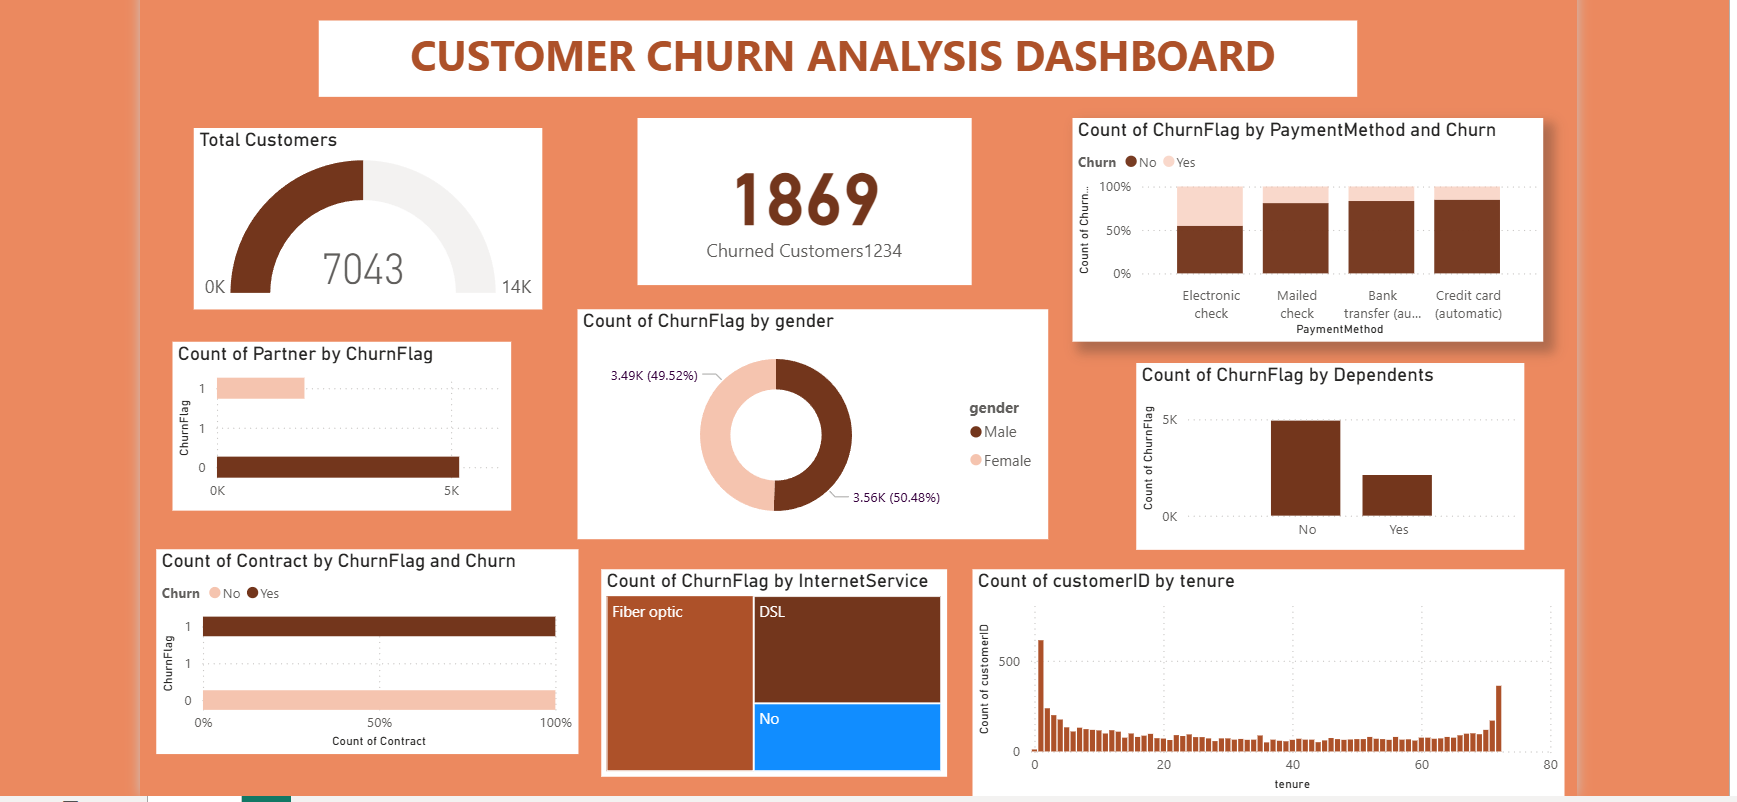

This screenshot's page, from the dashboard's own definition file:
{"tool":"powerbi","page":{"name":"Page 1","canvas":[1280,720],"ordinal":0},"visuals":[{"type":"donutChart","fields":{"Category":["Telco_Customer_Churn_Dataset  (2).gender"],"Y":["CountNonNull(Telco_Customer_Churn_Dataset  (2).ChurnFlag)"]},"box":[390.1,286,419,205.1],"z":0},{"type":"clusteredBarChart","fields":{"Category":["Telco_Customer_Churn_Dataset  (2).ChurnFlag"],"Y":["CountNonNull(Telco_Customer_Churn_Dataset  (2).Partner)"]},"box":[28.9,314.9,301.9,150.2],"z":1000},{"type":"columnChart","fields":{"Category":["Telco_Customer_Churn_Dataset  (2).Dependents"],"Y":["CountNonNull(Telco_Customer_Churn_Dataset  (2).ChurnFlag)"]},"box":[887,333.7,345.3,166.1],"z":2000},{"type":"clusteredColumnChart","fields":{"Category":["Telco_Customer_Churn_Dataset  (2).tenure"],"Y":["CountNonNull(Telco_Customer_Churn_Dataset  (2).customerID)"]},"box":[741.1,517.2,527.3,202.3],"z":3000},{"type":"hundredPercentStackedBarChart","fields":{"Y":["CountNonNull(Telco_Customer_Churn_Dataset  (2).Contract)"],"Series":["Telco_Customer_Churn_Dataset  (2).Churn"],"Category":["Telco_Customer_Churn_Dataset  (2).ChurnFlag"]},"box":[14.4,499.9,375.6,182],"z":4000},{"type":"hundredPercentStackedColumnChart","fields":{"Category":["Telco_Customer_Churn_Dataset  (2).PaymentMethod"],"Y":["CountNonNull(Telco_Customer_Churn_Dataset  (2).ChurnFlag)"],"Series":["Telco_Customer_Churn_Dataset  (2).Churn"]},"box":[830.7,115.6,419,199.4],"z":5000},{"type":"treemap","fields":{"Values":["CountNonNull(Telco_Customer_Churn_Dataset  (2).ChurnFlag)"],"Group":["Telco_Customer_Churn_Dataset  (2).InternetService"]},"box":[410.3,517.2,307.7,184.9],"z":6000},{"type":"gauge","fields":{"Y":["Telco_Customer_Churn_Dataset  (2).Total Customers"]},"box":[47.7,124.2,310.6,161.8],"z":7000},{"type":"card","fields":{"Values":["Telco_Customer_Churn_Dataset  (2).Churned Customers1234"]},"box":[443.5,115.6,297.6,148.8],"z":8000},{"type":"textbox","box":[158.9,28.9,924.6,67.9],"z":9000}]}

Visuals, with their boxes in screenshot pixels (x1, y1, x2, y2):
donutChart - Telco_Customer_Churn_Dataset  (2).gender x CountNonNull(Telco_Customer_Churn_Dataset  (2).ChurnFlag): [575,307,1051,540]
clusteredBarChart - Telco_Customer_Churn_Dataset  (2).ChurnFlag x CountNonNull(Telco_Customer_Churn_Dataset  (2).Partner): [164,340,507,511]
columnChart - Telco_Customer_Churn_Dataset  (2).Dependents x CountNonNull(Telco_Customer_Churn_Dataset  (2).ChurnFlag): [1140,361,1532,550]
clusteredColumnChart - Telco_Customer_Churn_Dataset  (2).tenure x CountNonNull(Telco_Customer_Churn_Dataset  (2).customerID): [974,570,1573,800]
hundredPercentStackedBarChart - CountNonNull(Telco_Customer_Churn_Dataset  (2).Contract) x Telco_Customer_Churn_Dataset  (2).Churn: [148,550,575,757]
hundredPercentStackedColumnChart - Telco_Customer_Churn_Dataset  (2).PaymentMethod x CountNonNull(Telco_Customer_Churn_Dataset  (2).ChurnFlag): [1076,113,1552,340]
treemap - CountNonNull(Telco_Customer_Churn_Dataset  (2).ChurnFlag) x Telco_Customer_Churn_Dataset  (2).InternetService: [598,570,948,780]
gauge - Telco_Customer_Churn_Dataset  (2).Total Customers: [185,123,539,307]
card - Telco_Customer_Churn_Dataset  (2).Churned Customers1234: [635,113,974,283]
textbox: [312,15,1363,92]
